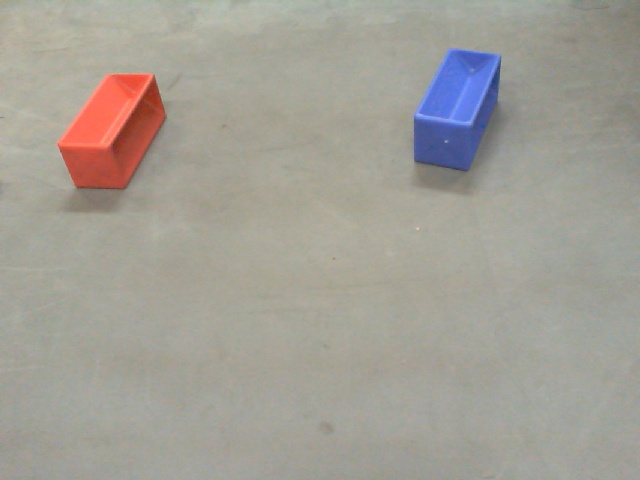BlueSample: (411, 44, 503, 174)
RedSample: (54, 69, 167, 195)
